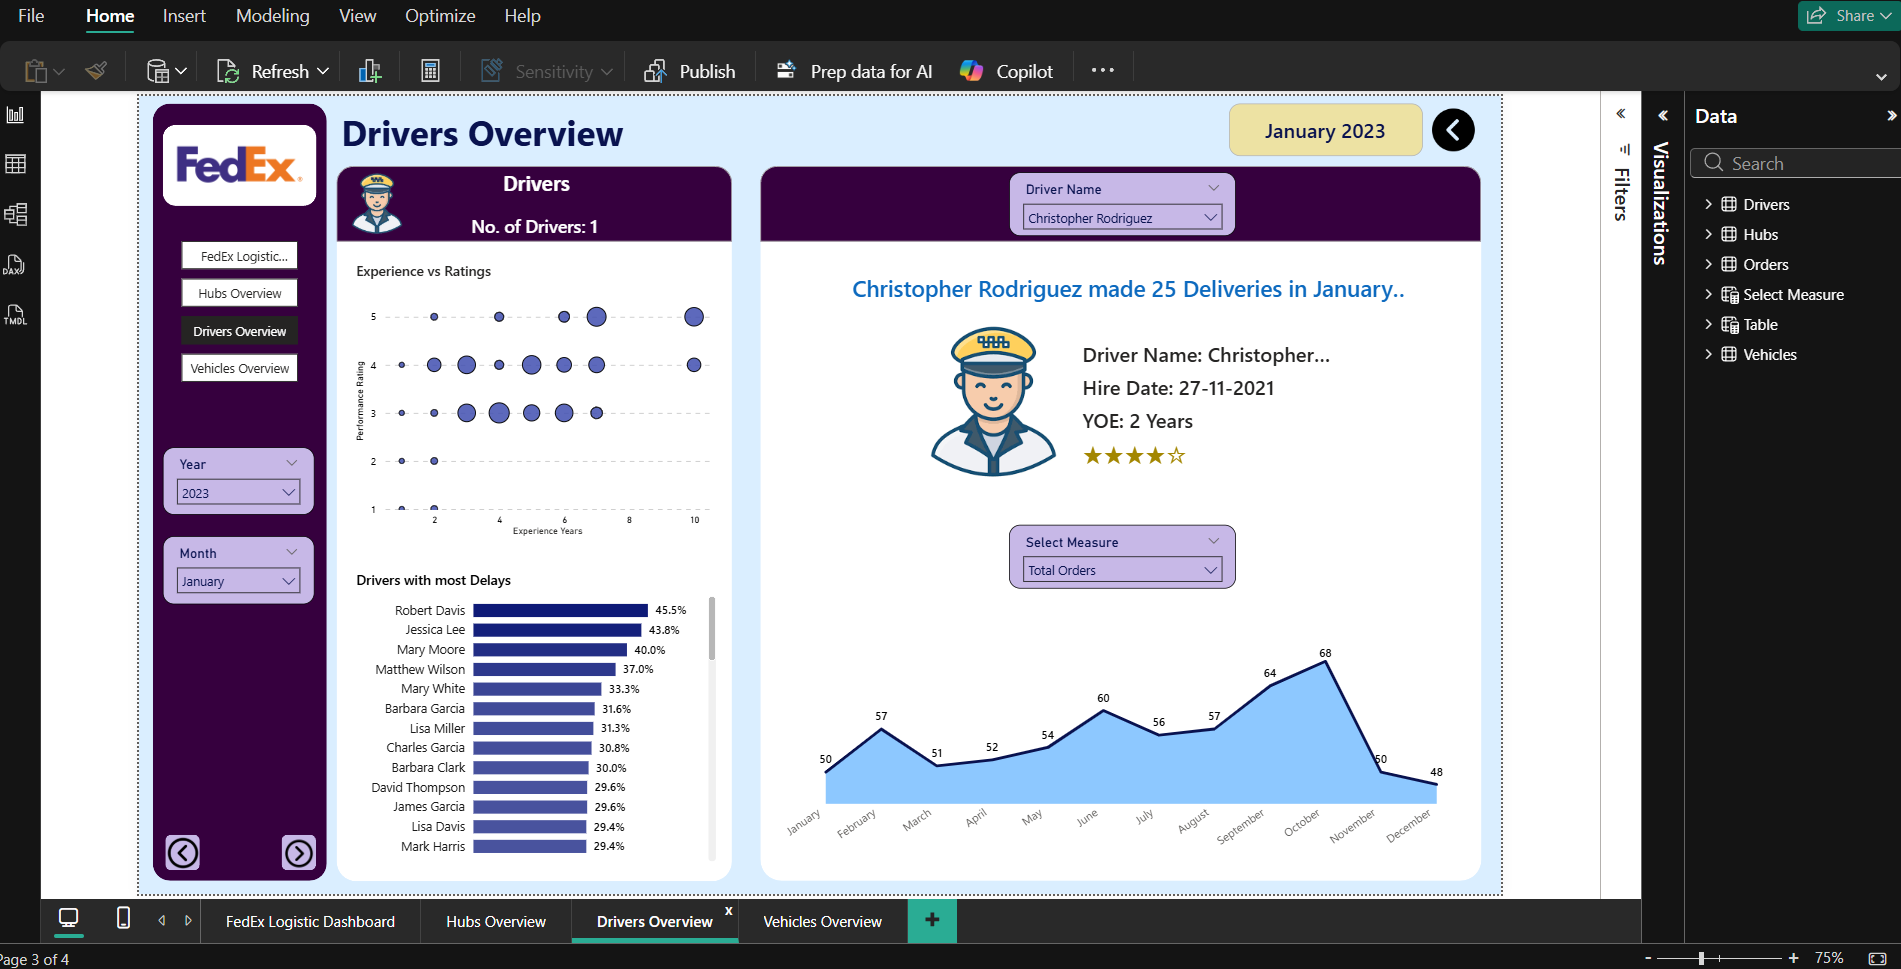

The page's visual inventory and layout, read from the dashboard file:
{"tool":"powerbi","page":{"name":"Drivers Overview","canvas":[1450,850],"ordinal":2},"visuals":[{"type":"shape","box":[15,8.6,185.2,827.5],"z":0},{"type":"textbox","box":[209.8,8.6,535.3,65.3],"z":1000},{"type":"slicer","fields":{"Values":["Table.Year"]},"box":[24.9,374.2,161.2,71.7],"z":2000},{"type":"slicer","fields":{"Values":["Table.Month"]},"box":[24.9,467.8,161.2,72.7],"z":3000},{"type":"shape","box":[210,74.6,421,761.4],"z":4000},{"type":"shape","box":[210,74.6,421,80.6],"z":5000},{"type":"textbox","box":[366.3,73.7,114.5,45.8],"z":6000},{"type":"cardVisual","fields":{"Data":["Drivers.No. of drivers"]},"box":[292.6,119.4,256.8,34.8],"z":7000},{"type":"barChart","title":"Drivers with most Delays","fields":{"Category":["Drivers.DriverName"],"Y":["Orders.Delayed Delievery Rate"]},"box":[225.9,504.6,393.1,315.5],"z":8000},{"type":"shape","box":[25.3,30.6,163.7,86.5],"z":9000},{"type":"cardVisual","fields":{"Data":["Orders.Year Month Title"]},"box":[1160.3,8,206.2,55.9],"z":10000},{"type":"shape","box":[661.3,74.5,767.8,761.1],"z":11000},{"type":"scatterChart","title":"Experience vs Ratings","fields":{"X":["Drivers.Experience Years"],"Y":["Drivers.Performance Rating"],"Size":["Sum(Drivers.Experience Years)1"]},"box":[225.9,175.2,393.1,297.6],"z":12000},{"type":"cardVisual","fields":{"Data":["Drivers.Drivers Title"]},"box":[727.6,175.2,639,56.7],"z":13000},{"type":"shape","box":[660.9,74.6,767.4,80.6],"z":14000},{"type":"slicer","fields":{"Values":["Drivers.DriverName"]},"box":[925.6,80.6,241.9,67.7],"z":15000},{"type":"cardVisual","fields":{"Data":["Drivers.Driver Name Title","Drivers.Hire Date Title","Drivers.YOE Title","Drivers.Star Rating"]},"box":[975.4,242.9,352.3,167.2],"z":16000},{"type":"areaChart","fields":{"Y":["Orders.On time Delevery Rate"],"Category":["Table.Month"]},"box":[678.8,574.3,731.6,245.8],"z":17000},{"type":"slicer","fields":{"Values":["Select Measure.Select Measure"]},"box":[925.6,455.9,241.9,67.7],"z":18000},{"type":"image","box":[33.3,31.9,147.7,83.8],"z":19000},{"type":"image","box":[819.7,222.2,179.6,206.2],"z":20000},{"type":"image","box":[1357.2,13.3,83.8,45.2],"z":21000},{"type":"shape","box":[27.9,786.3,36.8,37.8],"z":22000},{"type":"shape","box":[152.3,786.3,36.8,37.8],"z":23000},{"type":"image","box":[154.7,782.7,32,47.3],"z":24000},{"type":"image","box":[28.8,785.3,35.3,41.8],"z":25000},{"type":"pageNavigator","box":[44.8,154.3,124.4,152.3],"z":26000},{"type":"image","box":[214.2,78.5,78.5,71.9],"z":27000}]}

Visuals, with their boxes on the page's 1450x850 design canvas (x1, y1, x2, y2). These are canvas units, not pixel positions in the 1901x969 screenshot, which may show the page scaled, cropped or inside an application window:
shape: pyautogui.locateOnScreen(15, 9, 200, 836)
textbox: pyautogui.locateOnScreen(210, 9, 745, 74)
slicer - Table.Year: pyautogui.locateOnScreen(25, 374, 186, 446)
slicer - Table.Month: pyautogui.locateOnScreen(25, 468, 186, 540)
shape: pyautogui.locateOnScreen(210, 75, 631, 836)
shape: pyautogui.locateOnScreen(210, 75, 631, 155)
textbox: pyautogui.locateOnScreen(366, 74, 481, 120)
cardVisual - Drivers.No. of drivers: pyautogui.locateOnScreen(293, 119, 549, 154)
"Drivers with most Delays" barChart: pyautogui.locateOnScreen(226, 505, 619, 820)
shape: pyautogui.locateOnScreen(25, 31, 189, 117)
cardVisual - Orders.Year Month Title: pyautogui.locateOnScreen(1160, 8, 1366, 64)
shape: pyautogui.locateOnScreen(661, 74, 1429, 836)
"Experience vs Ratings" scatterChart: pyautogui.locateOnScreen(226, 175, 619, 473)
cardVisual - Drivers.Drivers Title: pyautogui.locateOnScreen(728, 175, 1367, 232)
shape: pyautogui.locateOnScreen(661, 75, 1428, 155)
slicer - Drivers.DriverName: pyautogui.locateOnScreen(926, 81, 1168, 148)
cardVisual - Drivers.Driver Name Title x Drivers.Hire Date Title: pyautogui.locateOnScreen(975, 243, 1328, 410)
areaChart - Orders.On time Delevery Rate x Table.Month: pyautogui.locateOnScreen(679, 574, 1410, 820)
slicer - Select Measure.Select Measure: pyautogui.locateOnScreen(926, 456, 1168, 524)
image: pyautogui.locateOnScreen(33, 32, 181, 116)
image: pyautogui.locateOnScreen(820, 222, 999, 428)
image: pyautogui.locateOnScreen(1357, 13, 1441, 58)
shape: pyautogui.locateOnScreen(28, 786, 65, 824)
shape: pyautogui.locateOnScreen(152, 786, 189, 824)
image: pyautogui.locateOnScreen(155, 783, 187, 830)
image: pyautogui.locateOnScreen(29, 785, 64, 827)
pageNavigator: pyautogui.locateOnScreen(45, 154, 169, 307)
image: pyautogui.locateOnScreen(214, 78, 293, 150)
